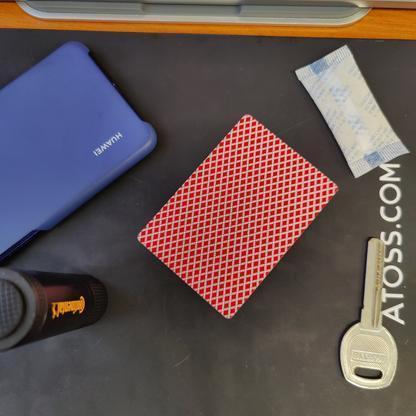card: (137, 108, 344, 324)
